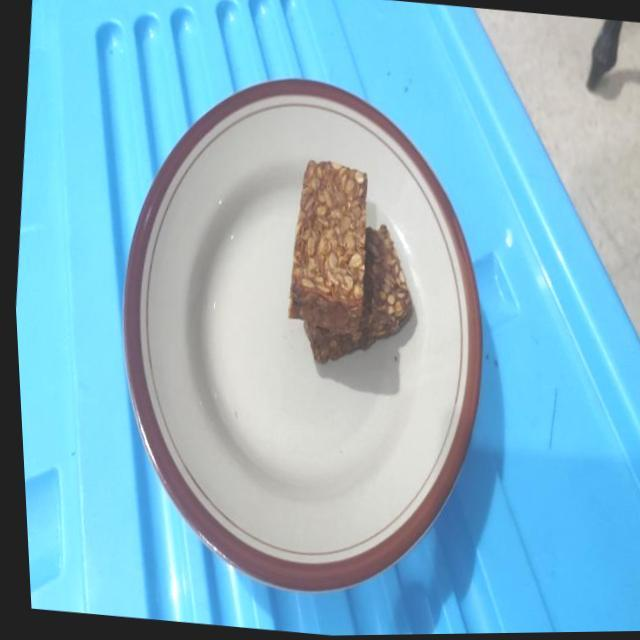tempe_goreng: (303, 224, 412, 363), (288, 160, 366, 339)
